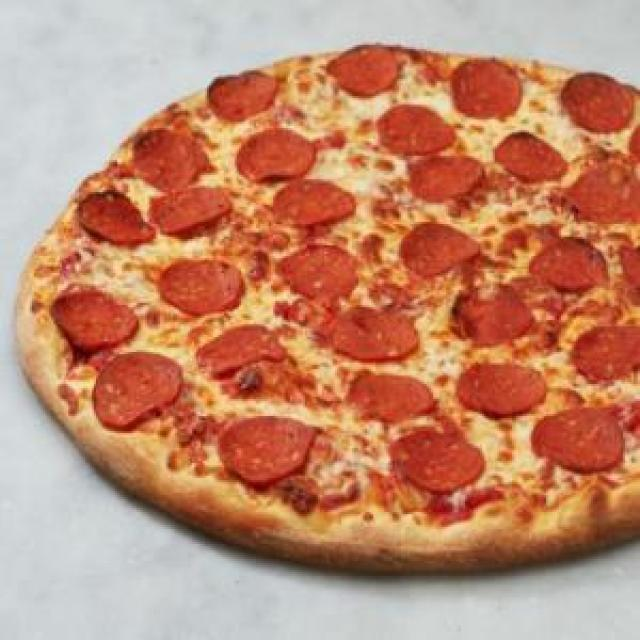Pizza: (15, 43, 640, 574)
